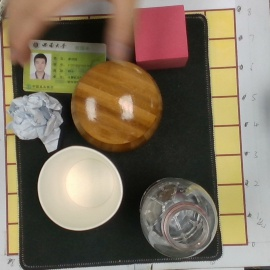bottle: (136, 173, 219, 258)
card: (22, 35, 109, 95)
chess: (70, 59, 162, 150)
cup: (37, 145, 124, 229)
